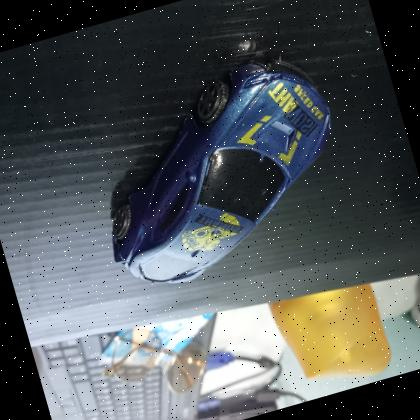Car: (66, 36, 370, 304)
